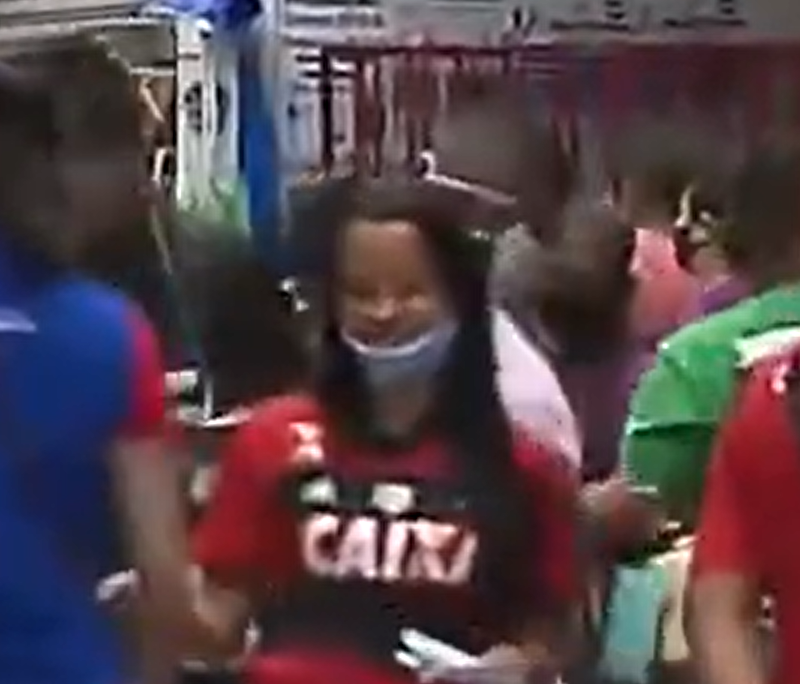mask_weared_incorrect: (328, 244, 458, 419)
